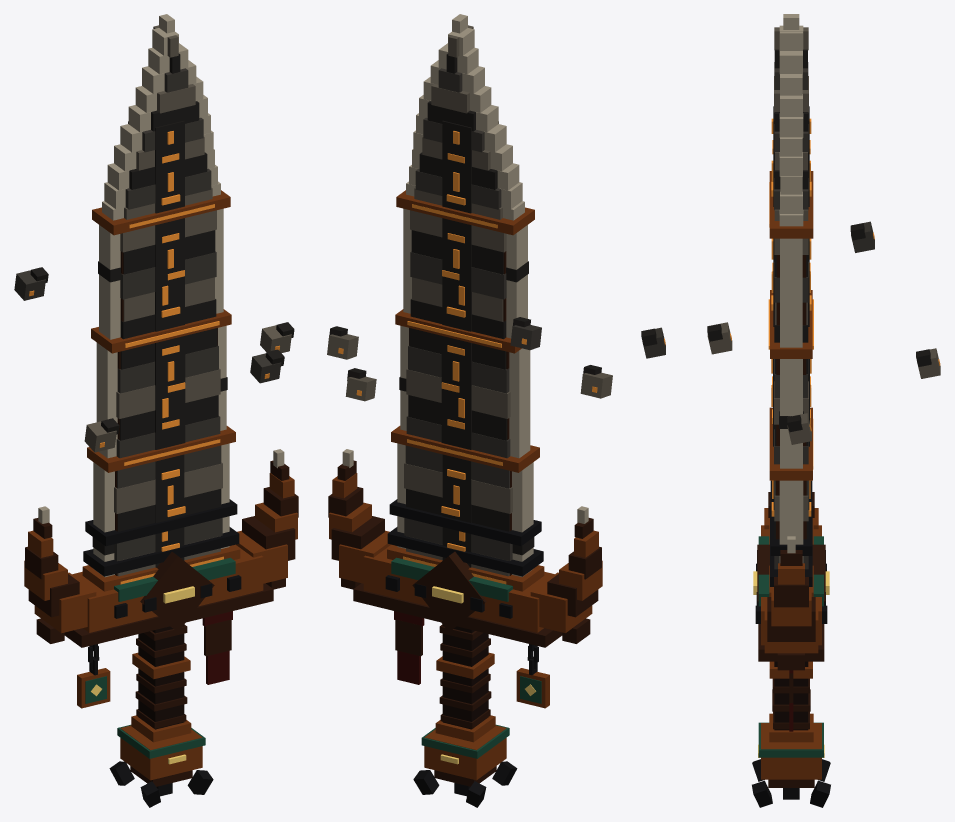
File: monolith.obj
3 renders of one model, left to right at view 1: azimuth 30°, elevation 25°; view 2: azimuth 150°, elevation 25°; view 3: azimuth 270°, elevation 25°, orthographic.
Parts seen in each view (by area): view 1: guard_25, slab_1_83, slab_2_101, rune_core_32, guard_26, grip_1, pommel_12, slab_3_140, slab_0_59, slab_2_98, slab_0_148, slab_0_65 (+51 smaller); view 2: guard_25, slab_1_83, slab_2_101, rune_core_32, guard_26, grip_1, pommel_12, slab_1_80, slab_3_140, slab_0_59, slab_0_148, slab_0_65 (+50 smaller); view 3: slab_2_97, pommel_12, slab_1_79, slab_0_61, grip_1, slab_3_146, guard_horn_R_48, slab_1_90, slab_2_108, guard_horn_R_47, rune_core_32, guard_horn_R_49 (+8 smaller).
Part boxes in pixels (x1,y1,x2,y2): guard_25: (72,544,263,632); slab_1_83: (155,336,185,449); slab_2_101: (155,218,184,331); rune_core_32: (140,552,214,631); guard_26: (64,583,273,647); grip_1: (138,625,184,729); pommel_12: (120,725,202,780); slab_3_140: (155,121,184,213); slab_0_59: (114,462,222,513); slab_2_98: (99,225,120,339); slab_0_148: (83,527,239,576); slab_0_65: (155,454,184,567); guard_25: (363,544,554,632); slab_1_83: (441,336,471,449); slab_2_101: (442,218,471,331); rune_core_32: (412,551,486,631); guard_26: (353,583,562,647); grip_1: (442,625,488,729); pommel_12: (424,725,506,780); slab_1_80: (509,348,530,458); slab_3_140: (442,120,471,213); slab_0_59: (404,462,512,513); slab_0_148: (387,527,543,576); slab_0_65: (442,454,471,567); slab_2_97: (780,238,802,347); pommel_12: (761,723,821,779); slab_1_79: (780,359,802,468); slab_0_61: (779,480,803,562); grip_1: (774,661,808,730); slab_3_146: (769,171,813,238); guard_horn_R_48: (767,597,815,641); slab_1_90: (769,407,812,480); slab_2_108: (770,290,812,358); guard_horn_R_47: (764,603,818,653); rune_core_32: (757,544,825,602); guard_horn_R_49: (771,589,811,626).
Size of the model in its own units: 2.87 by 8.17 by 2.83.
